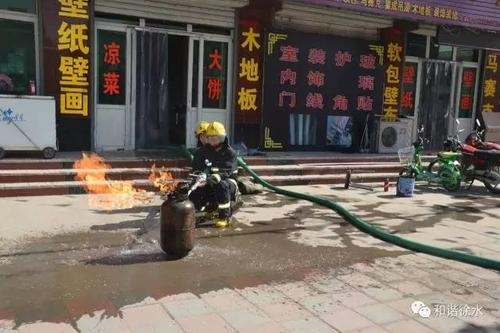fire: (71, 151, 171, 207)
